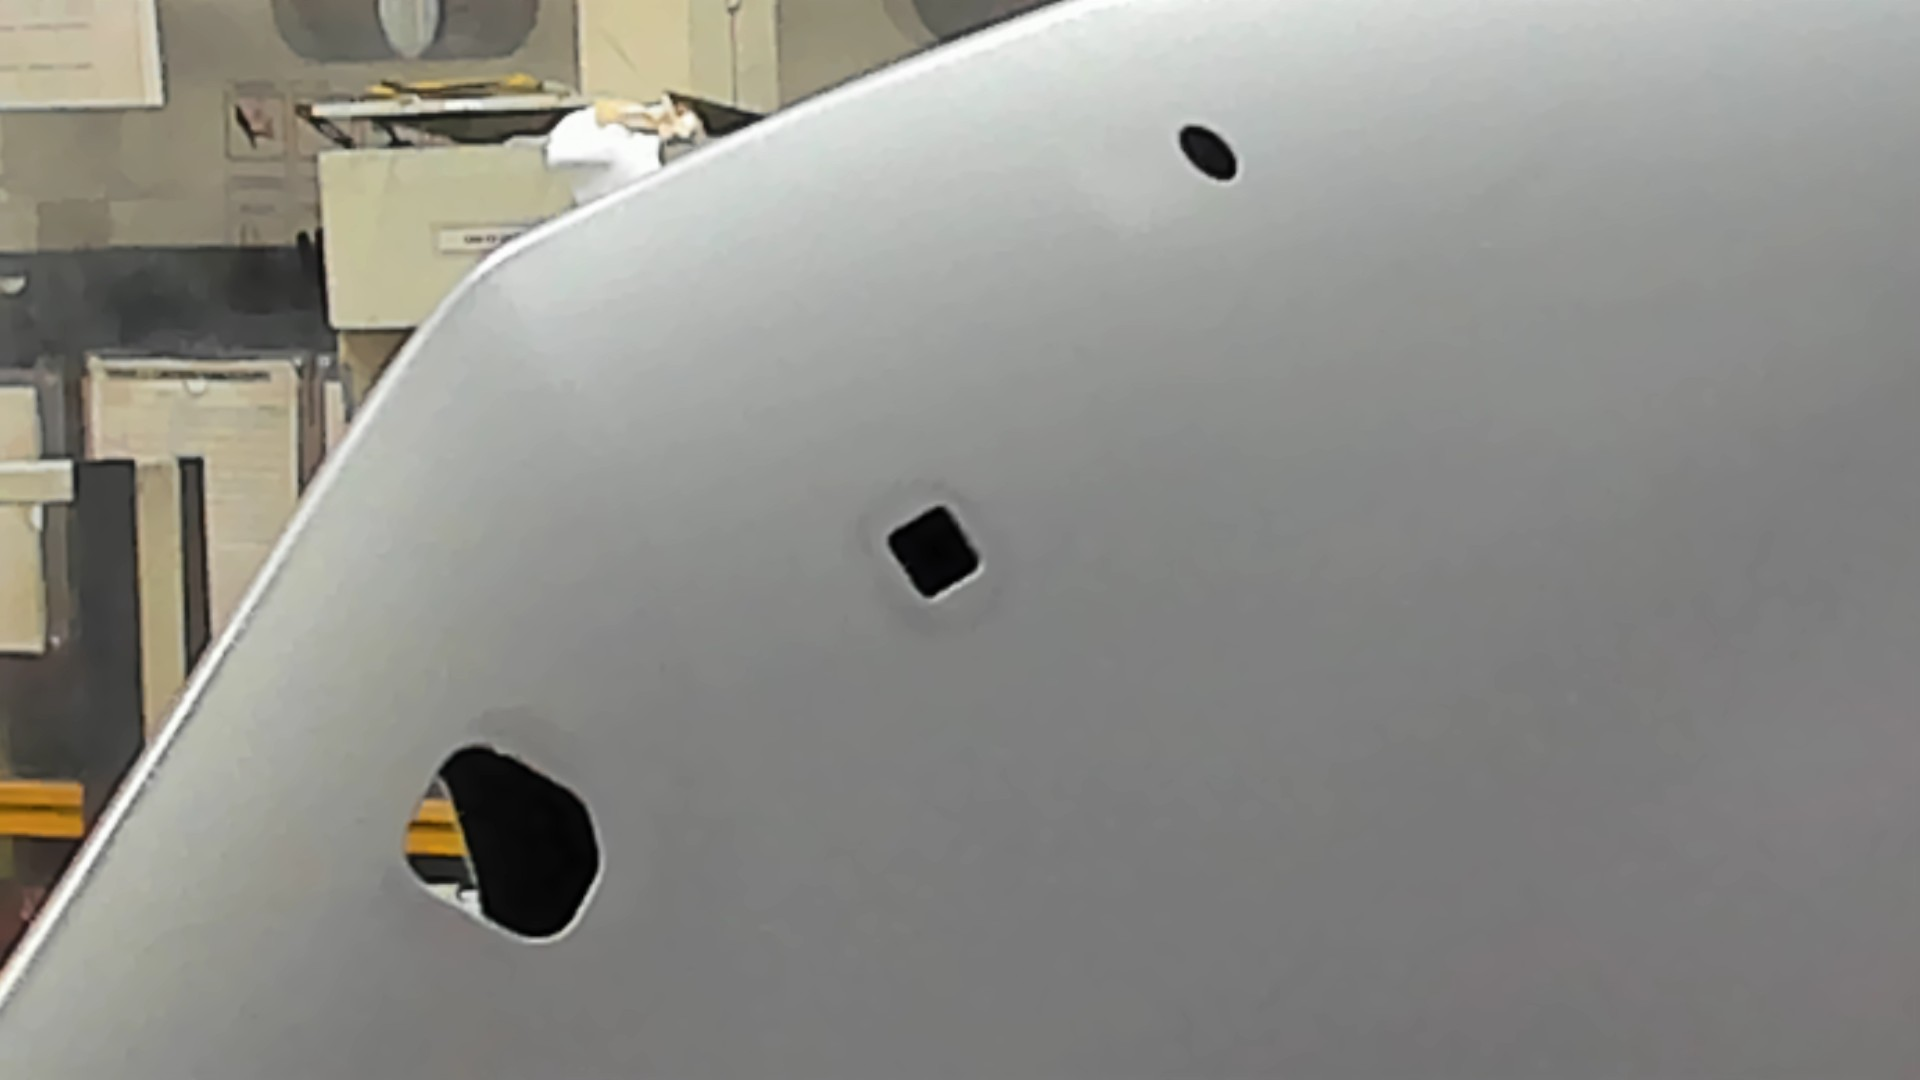Agujero: (882, 502, 986, 601), (1178, 123, 1242, 181)
Agujerote: (402, 744, 604, 945)
